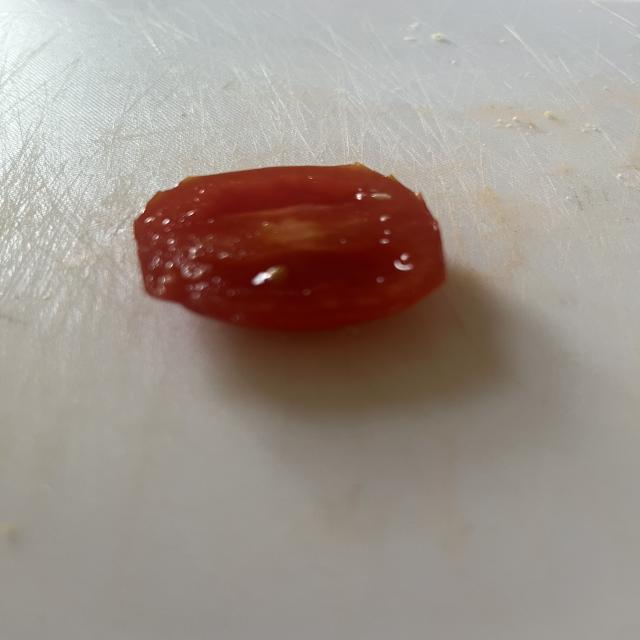sliced_tomato: (135, 164, 444, 329)
